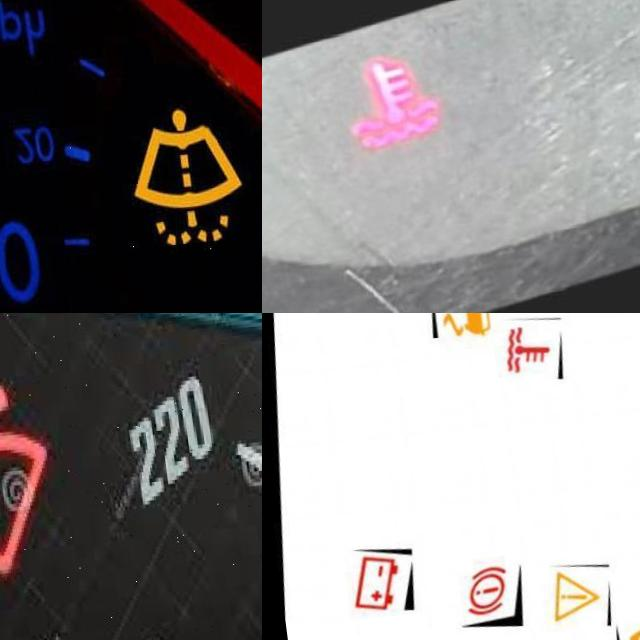Engine cooling system: (322, 53, 443, 172)
Washer Fluid: (115, 114, 239, 258), (0, 371, 52, 622)
